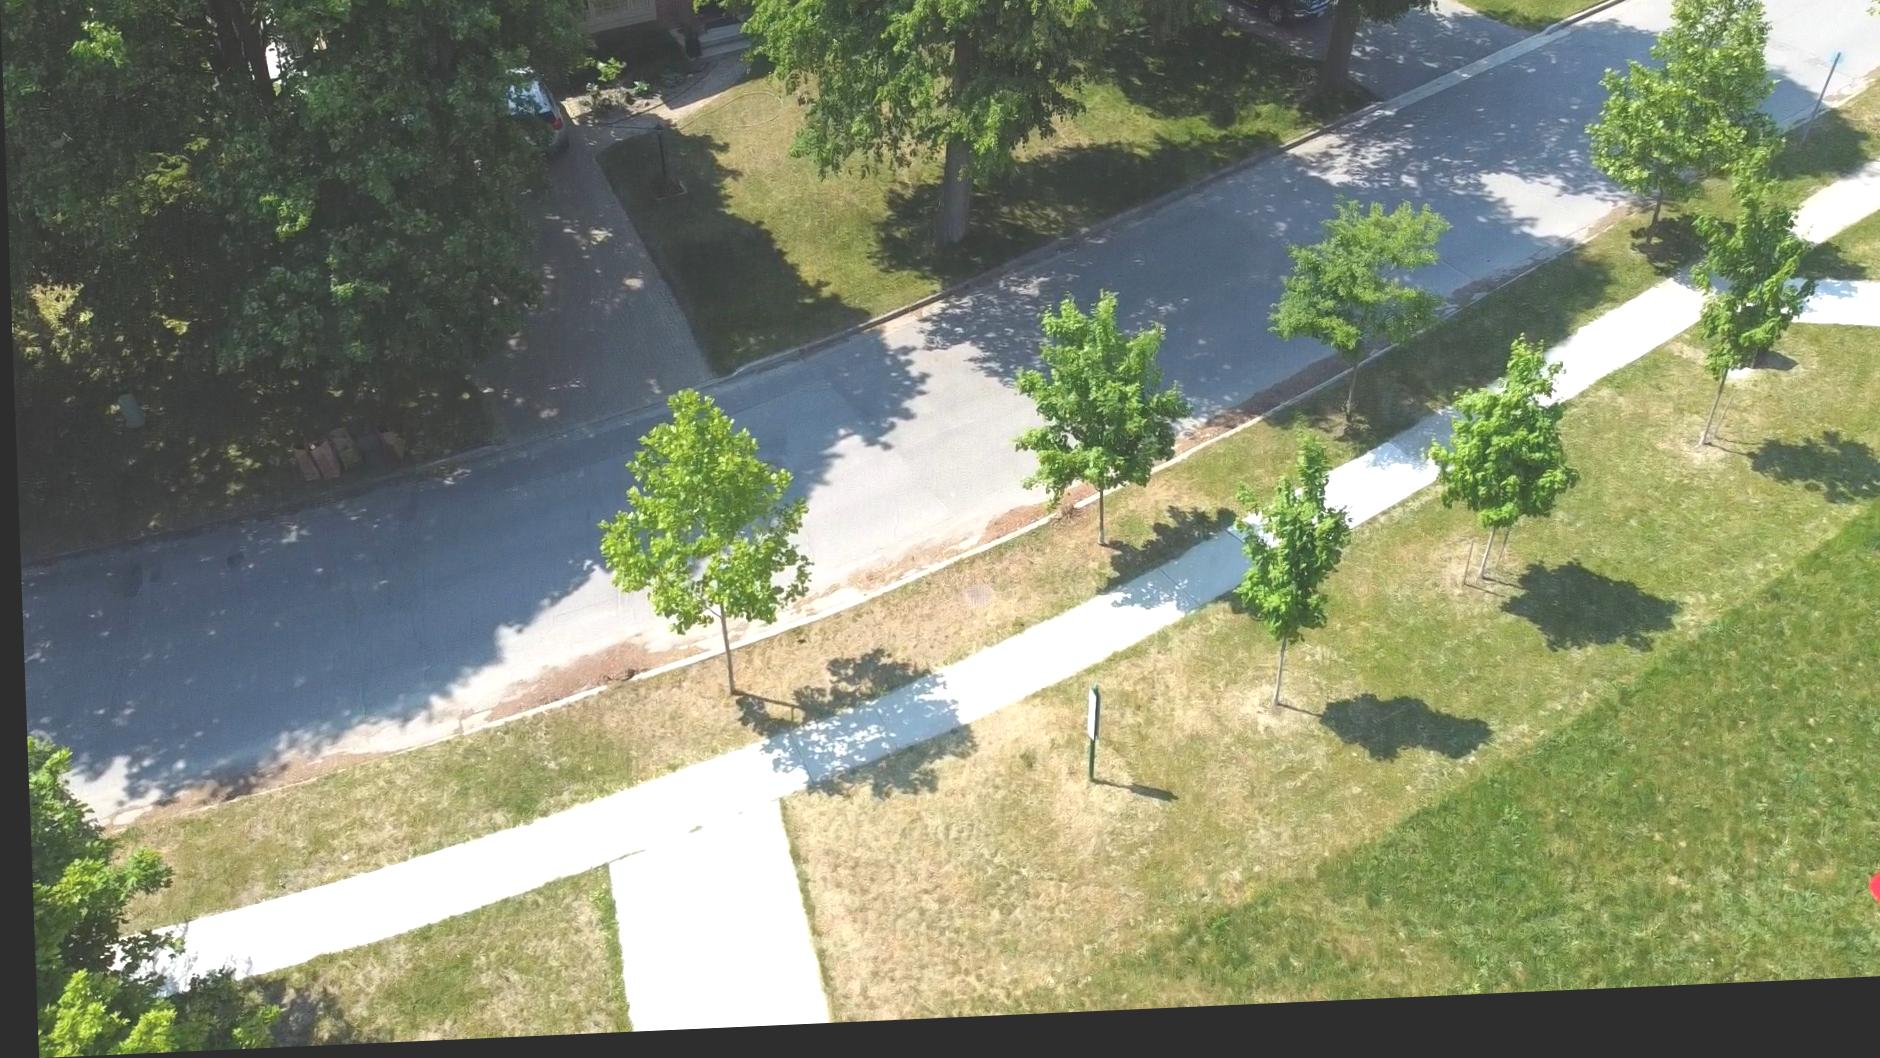Red: (1861, 886, 1880, 930)
